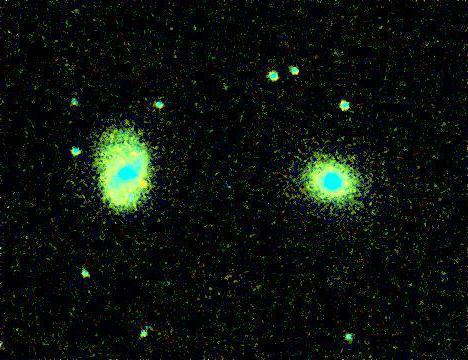star: (127, 171, 157, 201)
